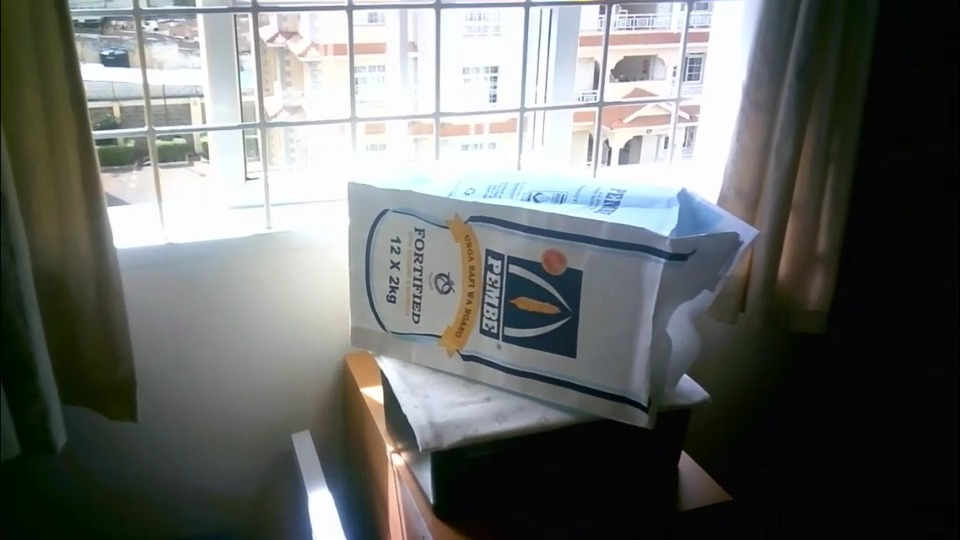wheat_flour_blue_label: (344, 179, 757, 426)
